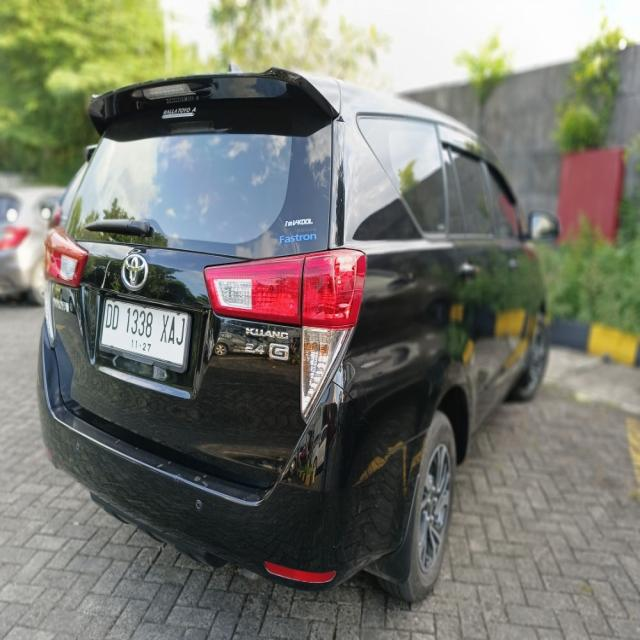plates: (98, 292, 190, 368)
